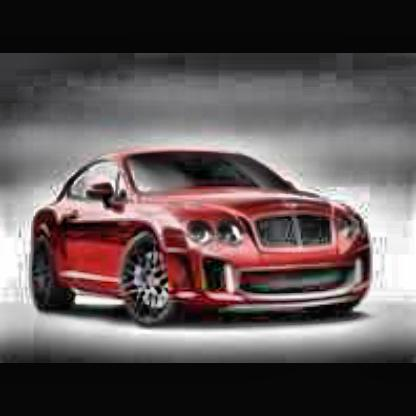Bentley Continental GT Coupe 2012: (26, 145, 376, 329)
